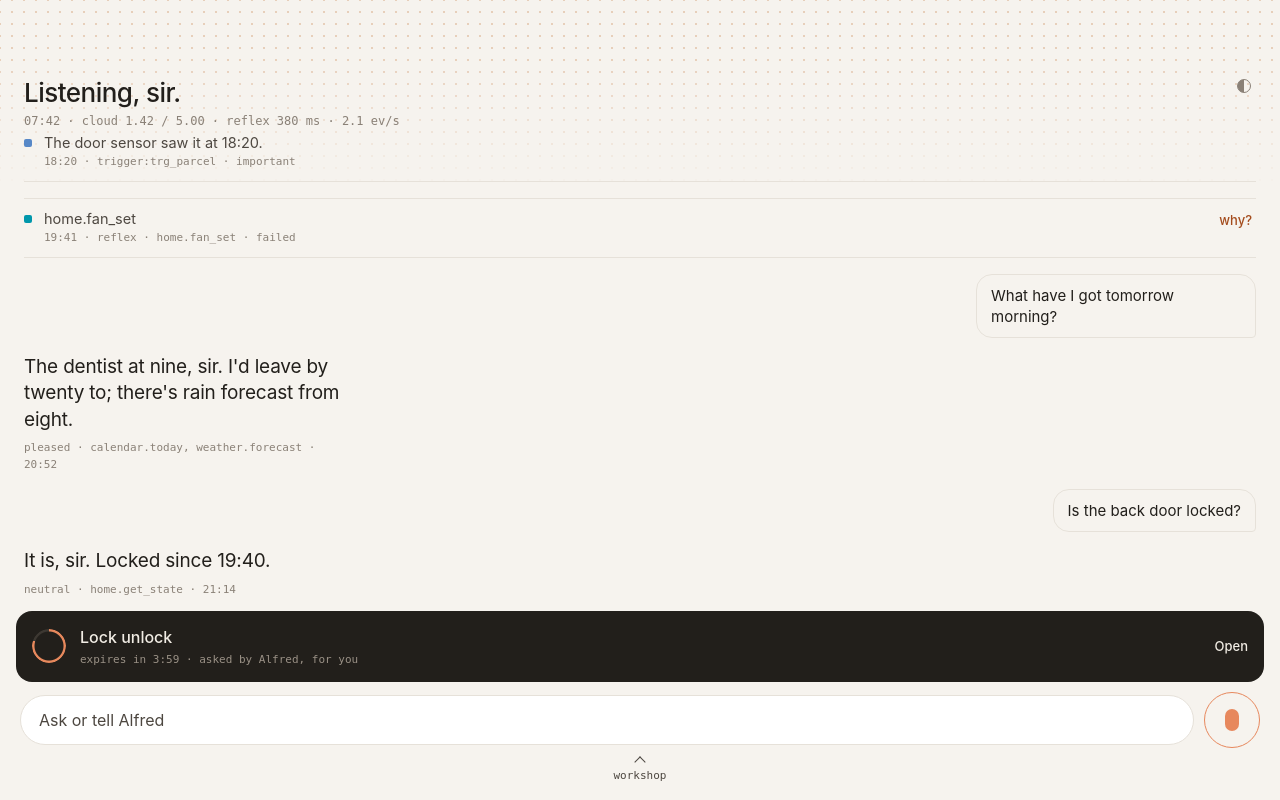
it: App › raises the banner for a pending approval and opens the Door from it
(page scrolled)
Click the button "Lock unlock expires in 3:59 · asked by Alfred, for you Open" at (49, 646), box [16, 610, 1264, 682]
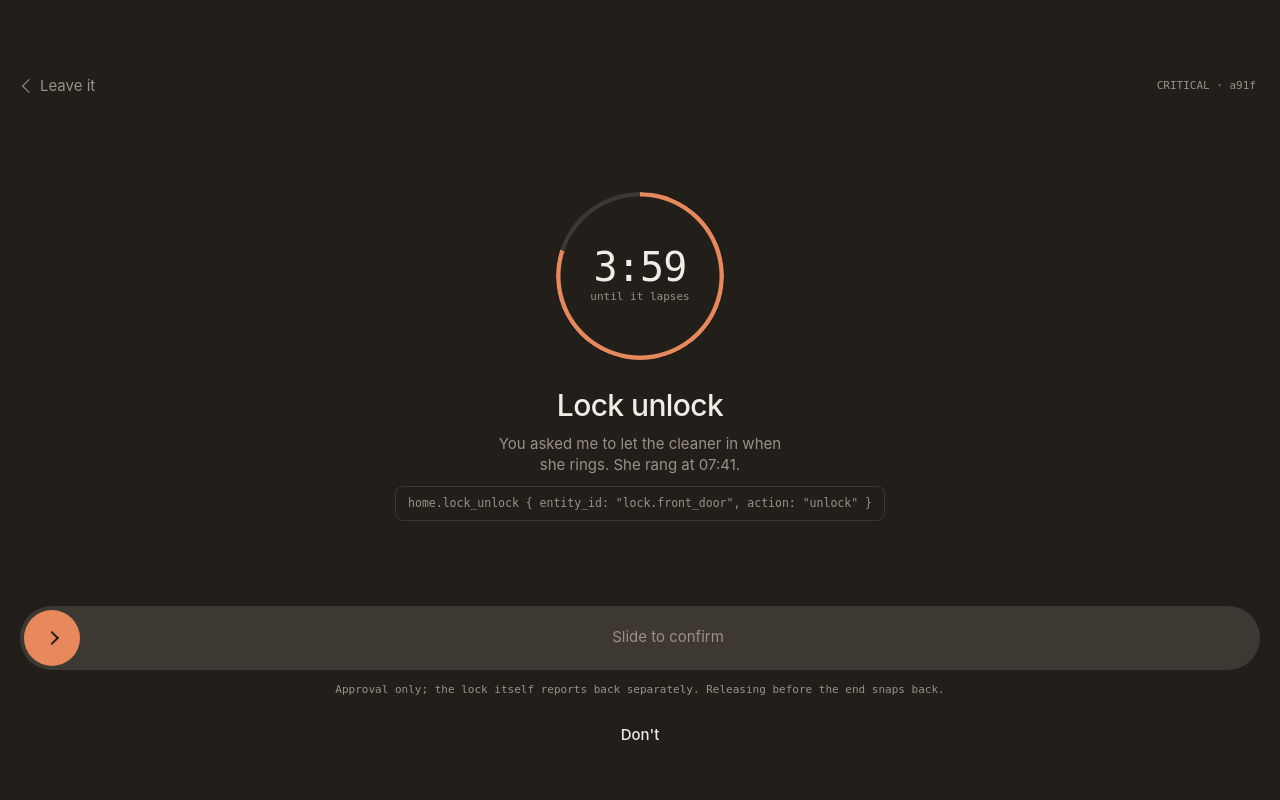
expect the dialog named "Critical approval" is shown: met
